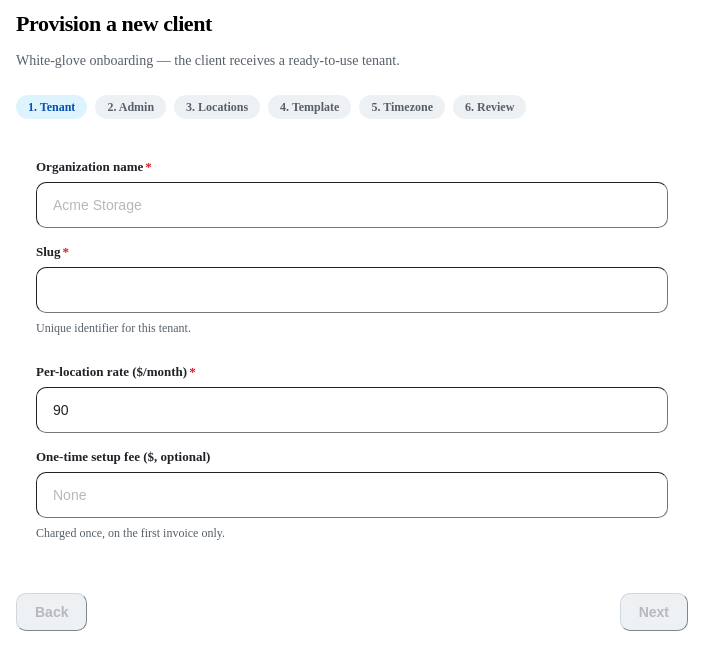
Test: ProvisioningWizard · Tenant step + slug gate › a malformed hand-edited slug is rejected without a network round-trip
Type "Acme" into the field labelled "Organization name*" at [352, 206], box [36,182,668,228]
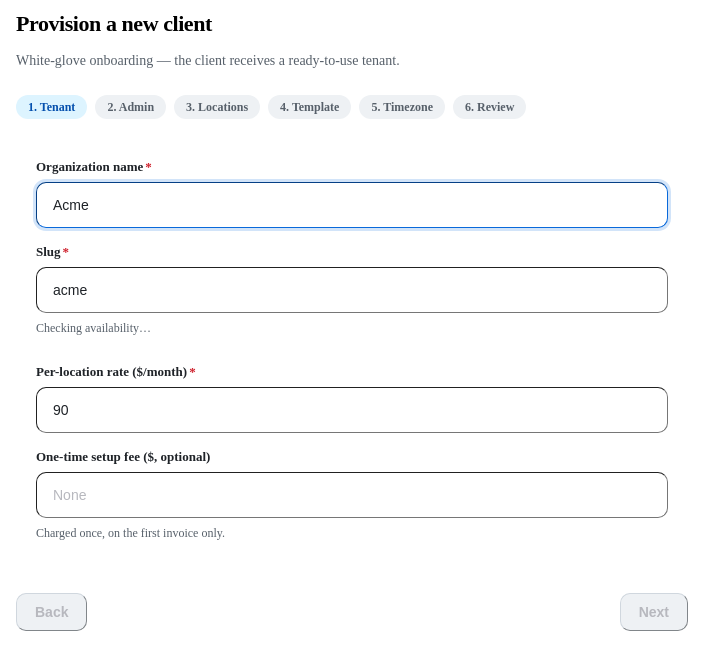
Replace the text in the field labelled "Slug*" with "Not Valid!" at [352, 290], box [36,268,668,314]
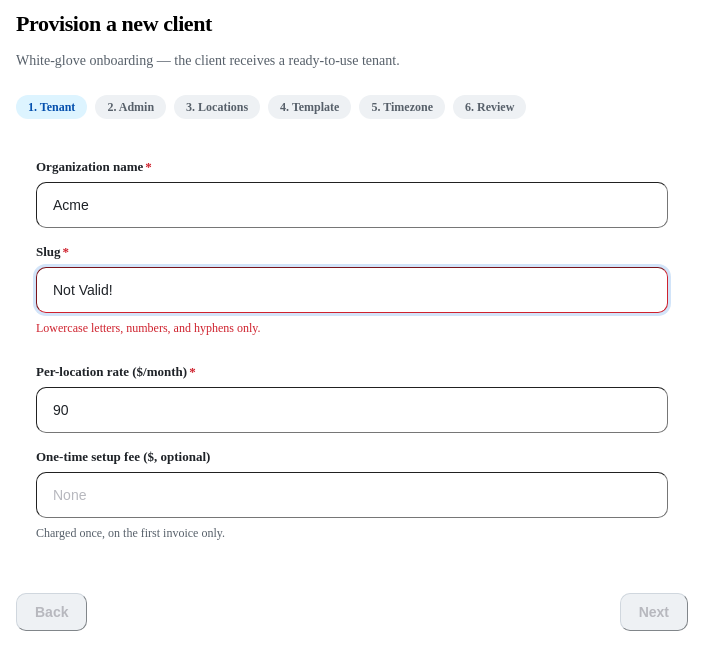
Expected: the button "Next" is disabled, [620,594,688,632]
Now the text "Lowercase letters, numbers, and hyphens only." is shown, box [36,322,260,336]
